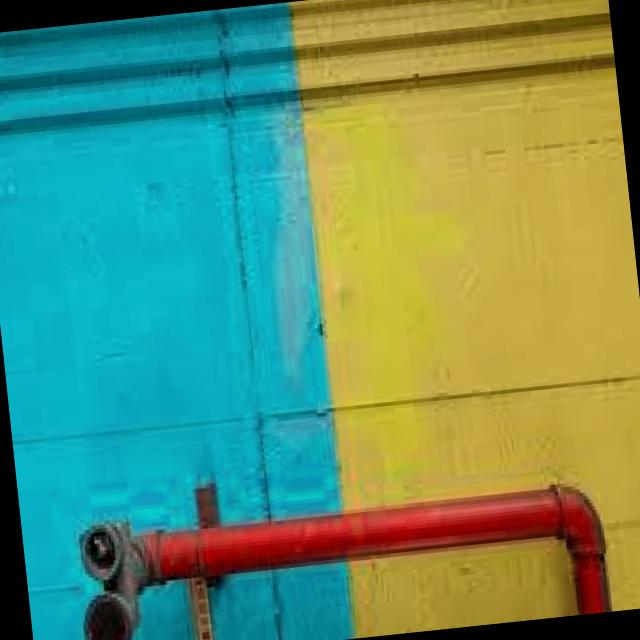gas: (123, 482, 608, 615)
